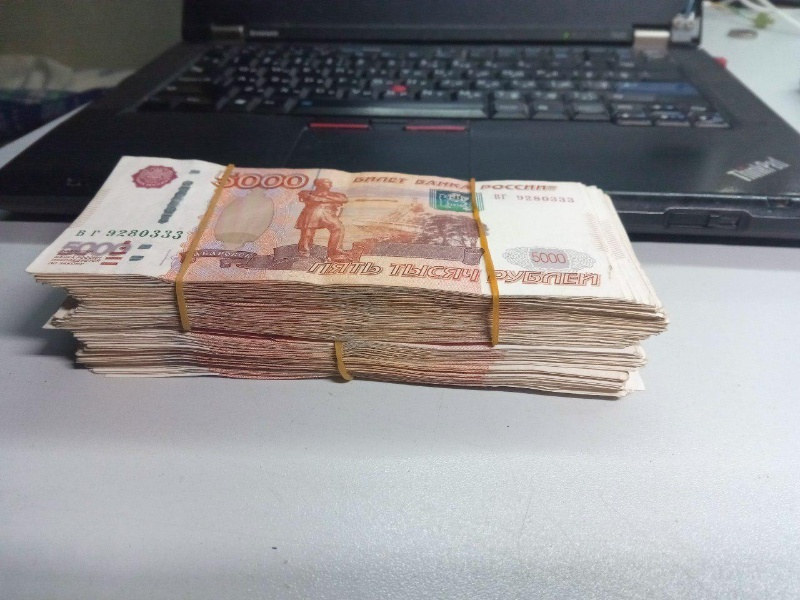cash: (26, 156, 669, 401)
